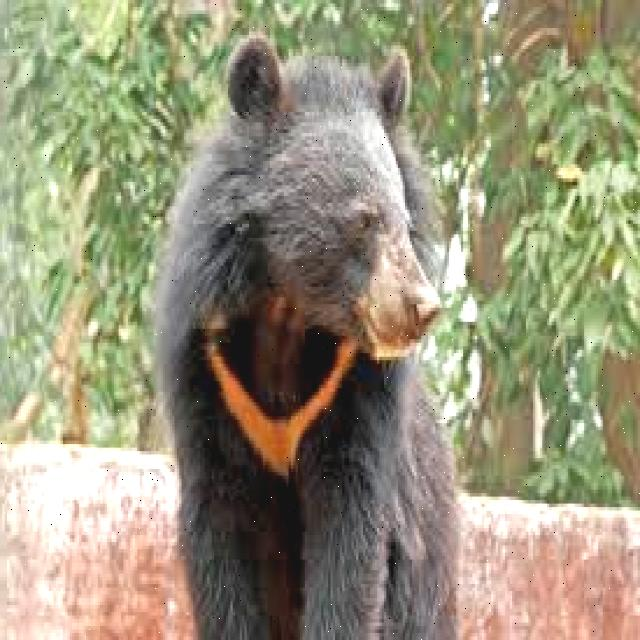bear: (149, 24, 452, 632)
